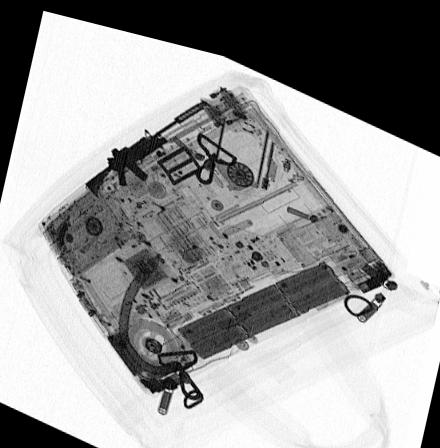Gun: (83, 88, 209, 192)
